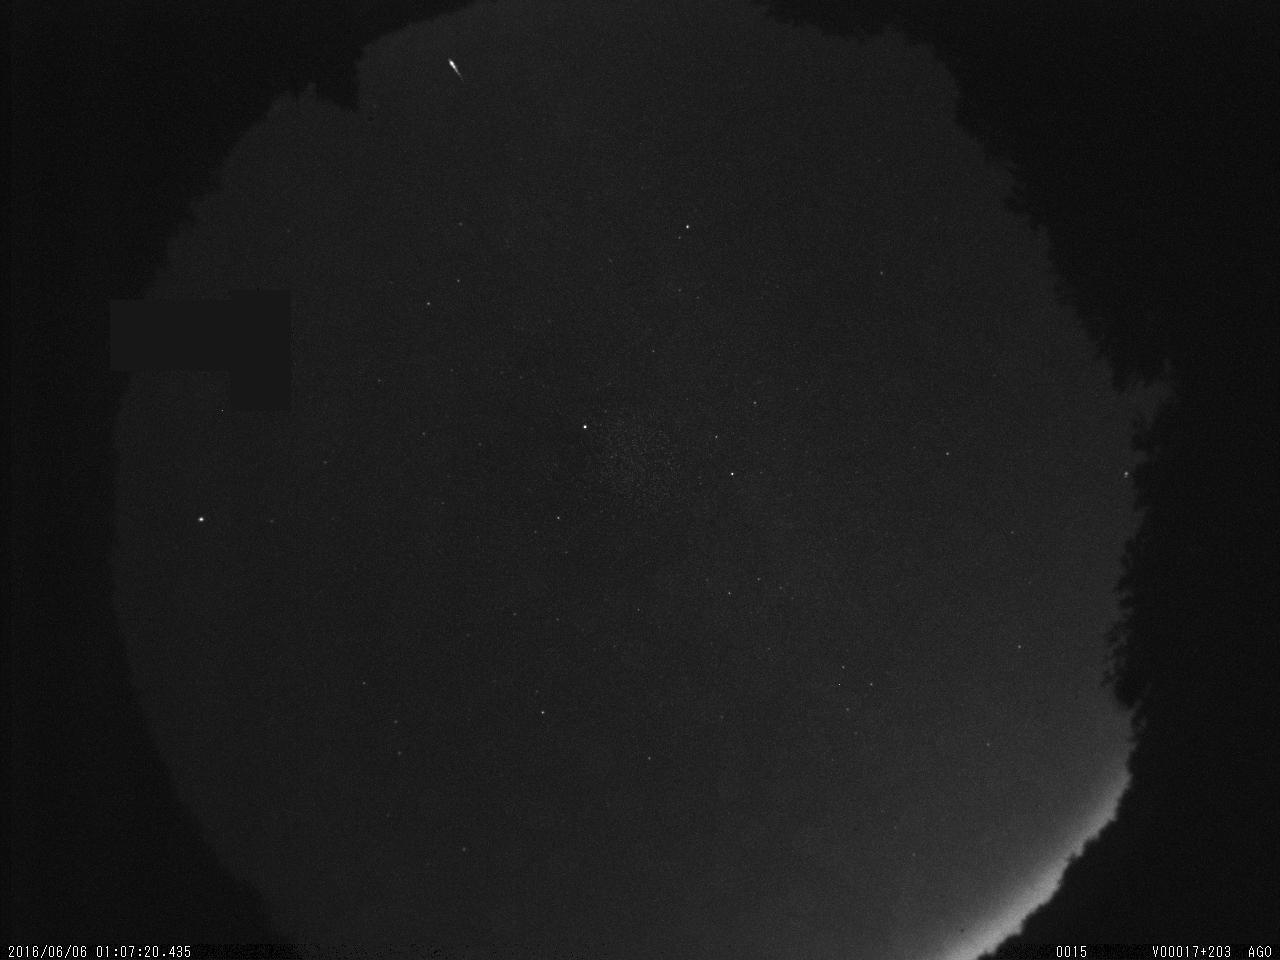Meteor: (447, 54, 464, 79)
